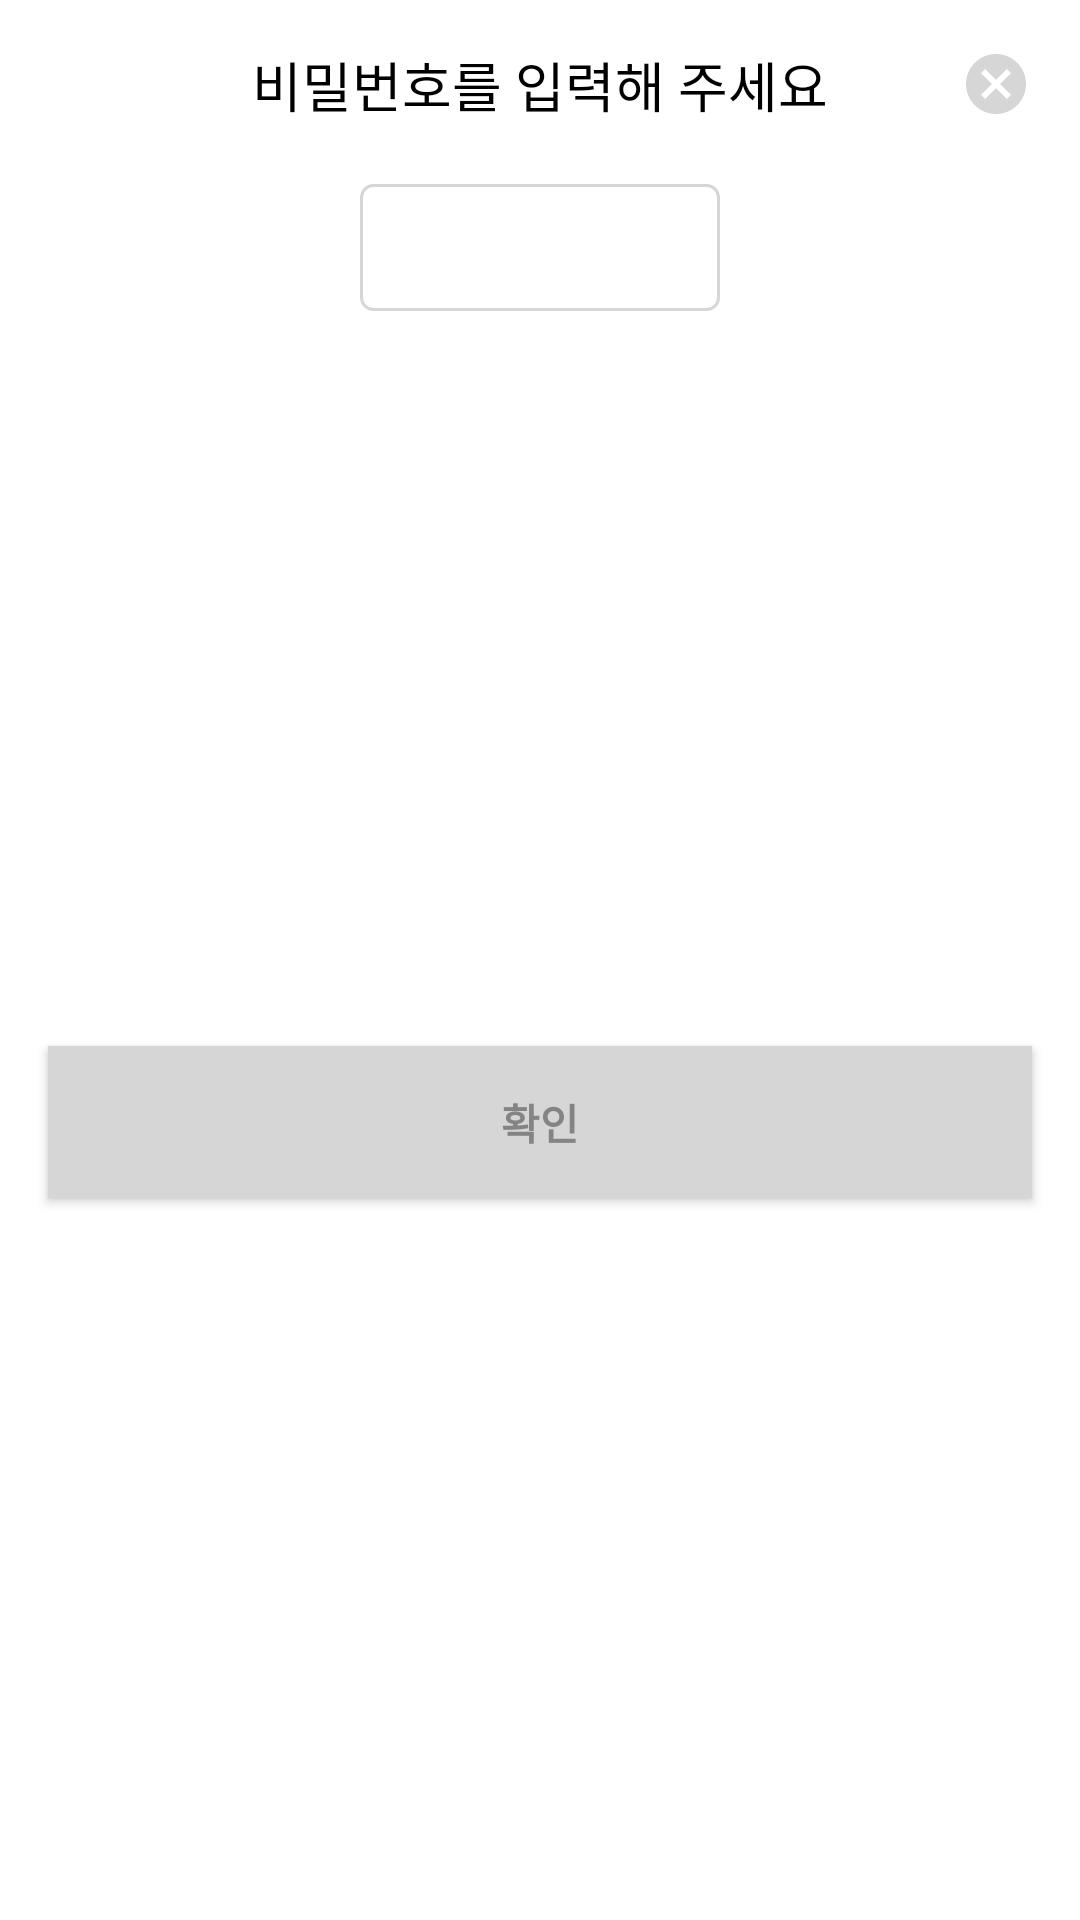

Screen size 1080px×1920px. Icon name, then its box in pixels as (left=x1, top=y1, right=x2, bottom=y2):
cancel: (left=966, top=54, right=1026, bottom=114)
